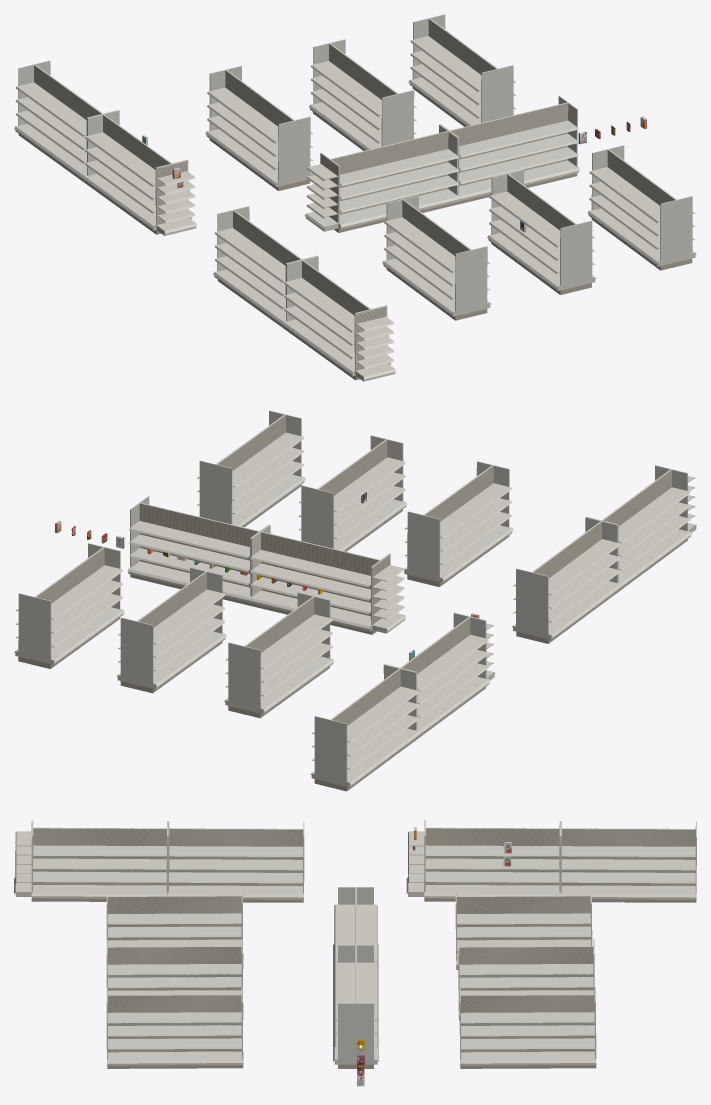
Rendered from store_v6.glb.
The picture shows the model from 3 angles, top to bottom: view 1: azimuth 30°, elevation 25°; view 2: azimuth 150°, elevation 25°; view 3: azimuth 270°, elevation 25°; orthographic projection. The views are drawn at different scales.
Visible parts, largest first — view 1: aisle_4, aisle_8, aisle_9, aisle_3, aisle_1, aisle_2, aisle_7, aisle_5, aisle_6; view 2: aisle_4, aisle_9, aisle_8, aisle_7, aisle_3, aisle_6, aisle_5, aisle_1, aisle_2; view 3: aisle_8, aisle_9, aisle_5, aisle_1, aisle_4, aisle_7, aisle_3, aisle_6, aisle_2.
Part boxes in pixels (left/top/right/bottom): aisle_4: left=305, top=96, right=579, bottom=232; aisle_8: left=213, top=206, right=395, bottom=381; aisle_9: left=14, top=60, right=196, bottom=235; aisle_3: left=382, top=195, right=491, bottom=320; aisle_1: left=587, top=145, right=696, bottom=270; aisle_2: left=487, top=169, right=596, bottom=294; aisle_7: left=205, top=66, right=314, bottom=190; aisle_5: left=408, top=14, right=515, bottom=126; aisle_6: left=309, top=39, right=416, bottom=150; aisle_4: left=127, top=496, right=406, bottom=634; aisle_9: left=310, top=612, right=495, bottom=791; aisle_8: left=512, top=465, right=696, bottom=643; aisle_7: left=224, top=592, right=334, bottom=718; aisle_3: left=404, top=461, right=513, bottom=586; aisle_6: left=116, top=567, right=226, bottom=693; aisle_5: left=14, top=543, right=124, bottom=668; aisle_1: left=197, top=410, right=305, bottom=527; aisle_2: left=298, top=435, right=407, bottom=551; aisle_8: left=14, top=820, right=304, bottom=902; aisle_9: left=406, top=820, right=696, bottom=902; aisle_5: left=459, top=987, right=596, bottom=1068; aisle_1: left=106, top=987, right=243, bottom=1068; aisle_4: left=333, top=887, right=378, bottom=1068; aisle_7: left=455, top=888, right=592, bottom=969; aisle_3: left=106, top=888, right=243, bottom=968; aisle_6: left=458, top=939, right=594, bottom=1020; aisle_2: left=106, top=939, right=243, bottom=1019.
Size of what is drawn, in the model's own units: 18.8 by 2.59 by 23.57.
7 materials, 5 textured.
